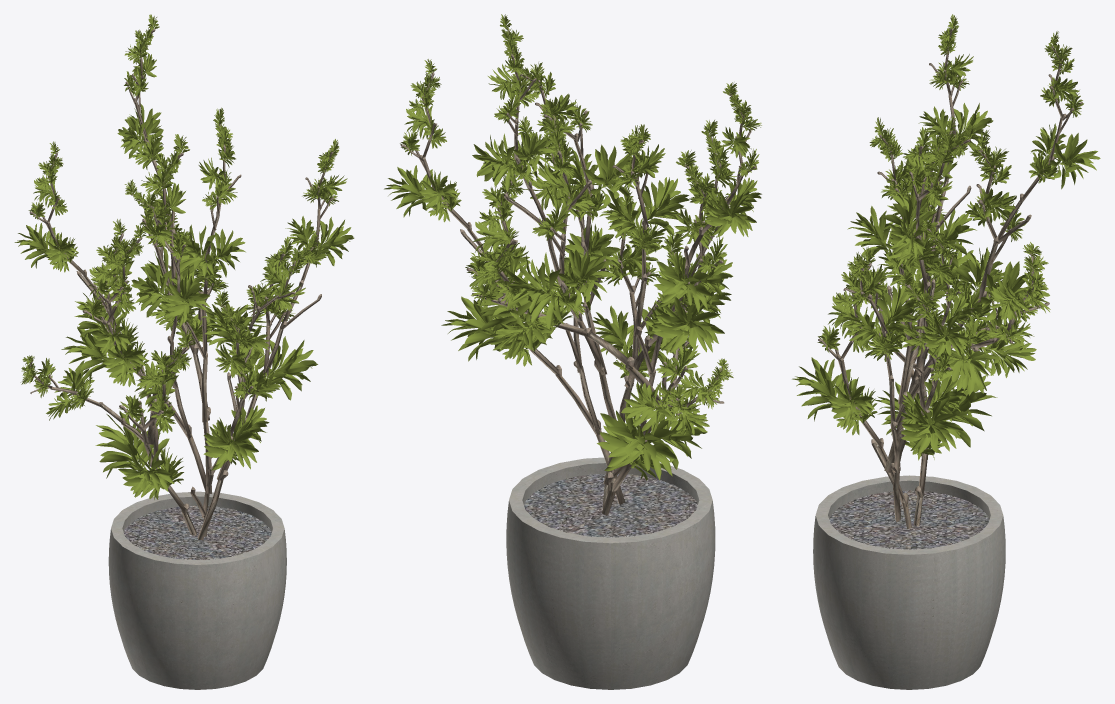
Rendered from floor_plant_tall.glb.
3 views of the same model, side by side, from view 1: azimuth 30°, elevation 25°; view 2: azimuth 150°, elevation 25°; view 3: azimuth 270°, elevation 25° (orthographic). The views are drawn at different scales.
Parts seen in each view (by area): view 1: Geom3D_ (×2), Geom3D (×23); view 2: Geom3D_ (×2), Geom3D (×25); view 3: Geom3D_ (×2), Geom3D (×25).
Boxes of the visible parts, x1,y1,x2,y2 form: Geom3D_ (×2): (108, 491, 286, 689); Geom3D (×23): (14, 103, 354, 497); Geom3D_ (×2): (506, 457, 715, 689); Geom3D (×25): (384, 131, 756, 480); Geom3D_ (×2): (813, 475, 1005, 689); Geom3D (×25): (792, 103, 1100, 454).
Bounding box in the file's own units: 1.46 × 2.57 × 1.12.
4 materials, 3 textured.
